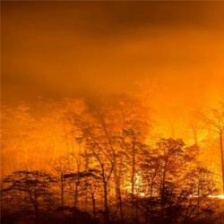fire: (124, 143, 224, 203)
